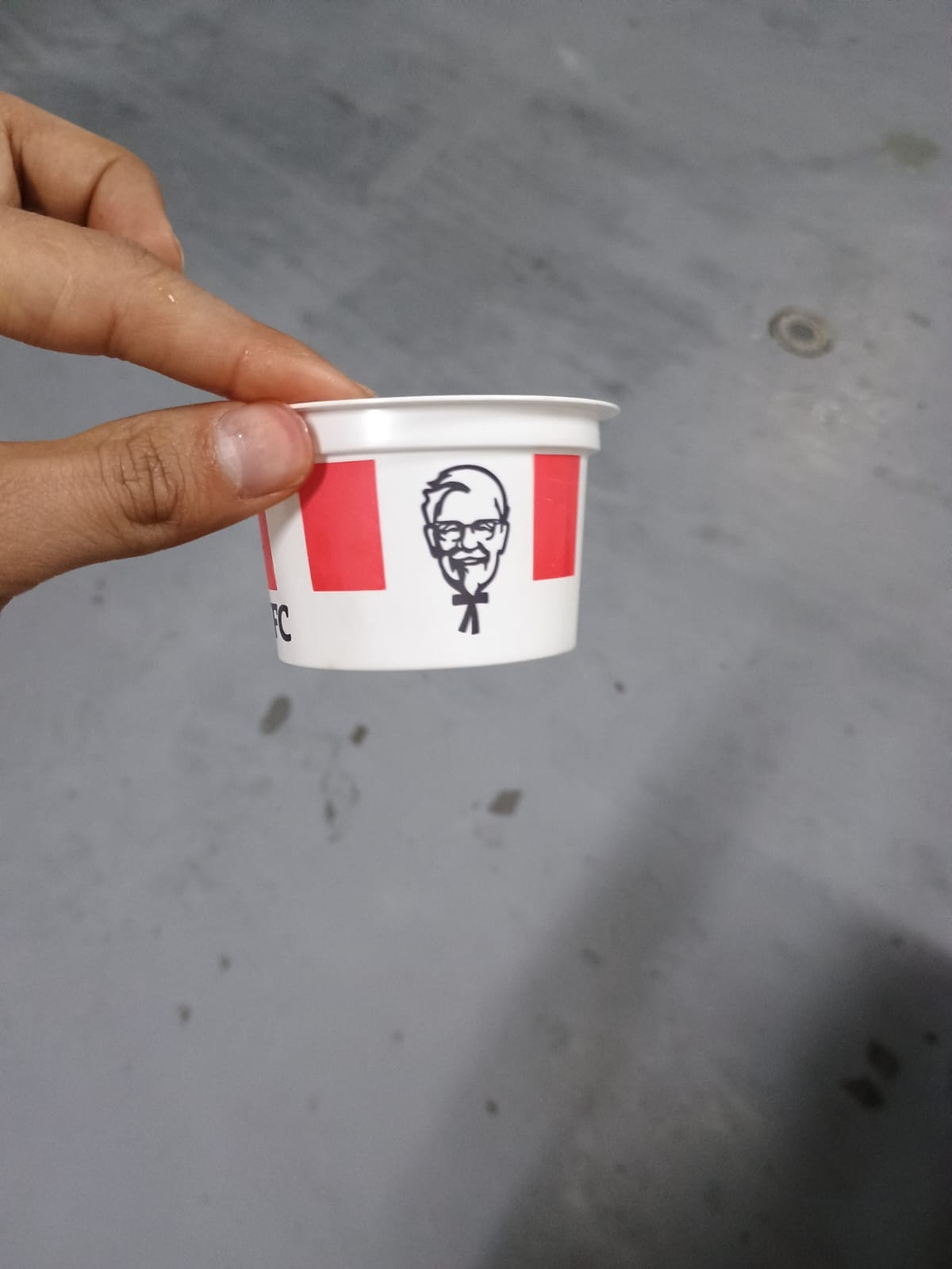Plastico: (255, 396, 621, 671)
